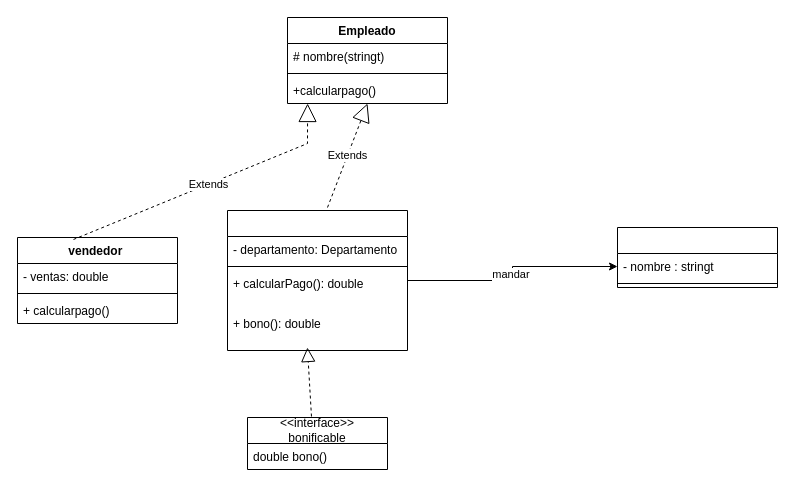
The diagram is 795 pixels wide and 490 high, and some of its shapes have lost their labels. Each missing label, with the box of its shape:
departamento: (616, 226, 778, 288)
gerente: (226, 210, 408, 350)
